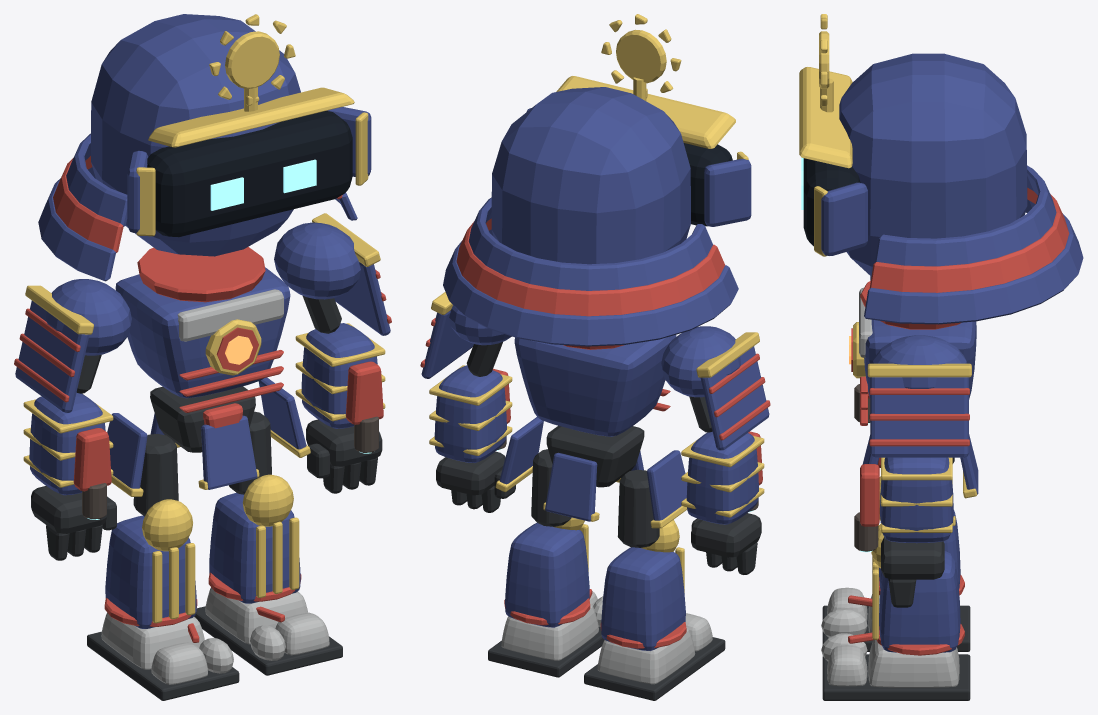
File: samurai.glb
3 renders of one model, left to right at view 1: azimuth 30°, elevation 25°; view 2: azimuth 150°, elevation 25°; view 3: azimuth 270°, elevation 25°, orthographic. The views are drawn at different scales.
Visible parts, largest first — view 1: cabeca_p.001, visor.001, tronco_p.001, gola.001, ombro_p.002, bota.003, bota.002, aba_testa, antebraco.002, ombro_p.003, antebraco.003, sode.001 (+56 smaller); view 2: cabeca_p.001, tronco_p.001, nuca.002, nuca.001, nuca, bota.003, bota.002, antebraco.002, antebraco.003, pelve.001, ombro_p.003, sode.001 (+25 smaller); view 3: cabeca_p.001, nuca.002, nuca.001, sode, nuca, bota.002, antebraco.002, aba_testa, pe.002, aba_lado, sola.002, ombro_p.002 (+25 smaller).
Part boxes in pixels (x1,y1,x2,y2): cabeca_p.001: (91,14,300,256); visor.001: (147,111,352,237); tronco_p.001: (115,267,290,398); gola.001: (137,246,265,302); ombro_p.002: (274,222,360,299); bota.003: (105,515,196,628); bota.002: (209,492,300,603); aba_testa: (148,87,354,147); antebraco.002: (301,323,377,428); ombro_p.003: (45,279,131,355); antebraco.003: (29,392,105,495); sode.001: (15,300,89,412); cabeca_p.001: (491,87,690,264); tronco_p.001: (514,335,676,436); nuca.002: (443,229,738,346); nuca.001: (456,218,724,316); nuca: (468,197,712,290); bota.003: (601,547,685,650); bota.002: (505,523,589,627); antebraco.002: (434,365,506,462); antebraco.003: (686,431,758,524); pelve.001: (546,425,644,487); ombro_p.003: (661,326,740,397); sode.001: (700,346,769,450); cabeca_p.001: (839,53,1027,276); nuca.002: (864,199,1083,324); nuca.001: (869,187,1069,292); sode: (870,377,968,457); nuca: (875,165,1056,266); bota.002: (879,551,960,652); antebraco.002: (880,457,953,543); aba_testa: (799,67,852,168); pe.002: (868,640,959,687); aba_lado: (821,182,867,255); sola.002: (822,654,970,700); ombro_p.002: (872,335,966,388).
Bounding box in the file's own units: 0.6318 × 1.22 × 0.49.
